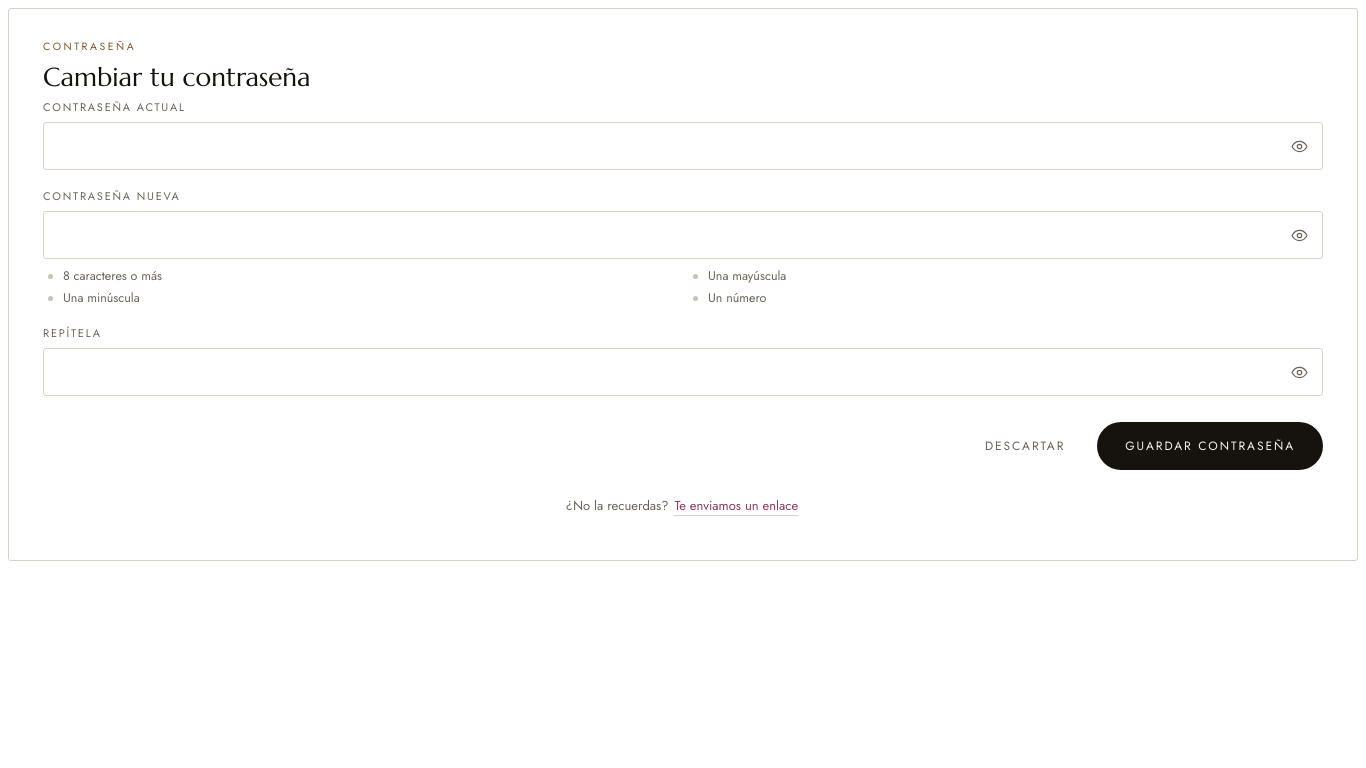
it: SeccionContrasena · con contraseña › la nueva igual a la actual no se envía
Type "Marlene2026" into the password field with test id "campo-actual". click: (683, 146)
box: left=43, top=122, right=1323, bottom=170
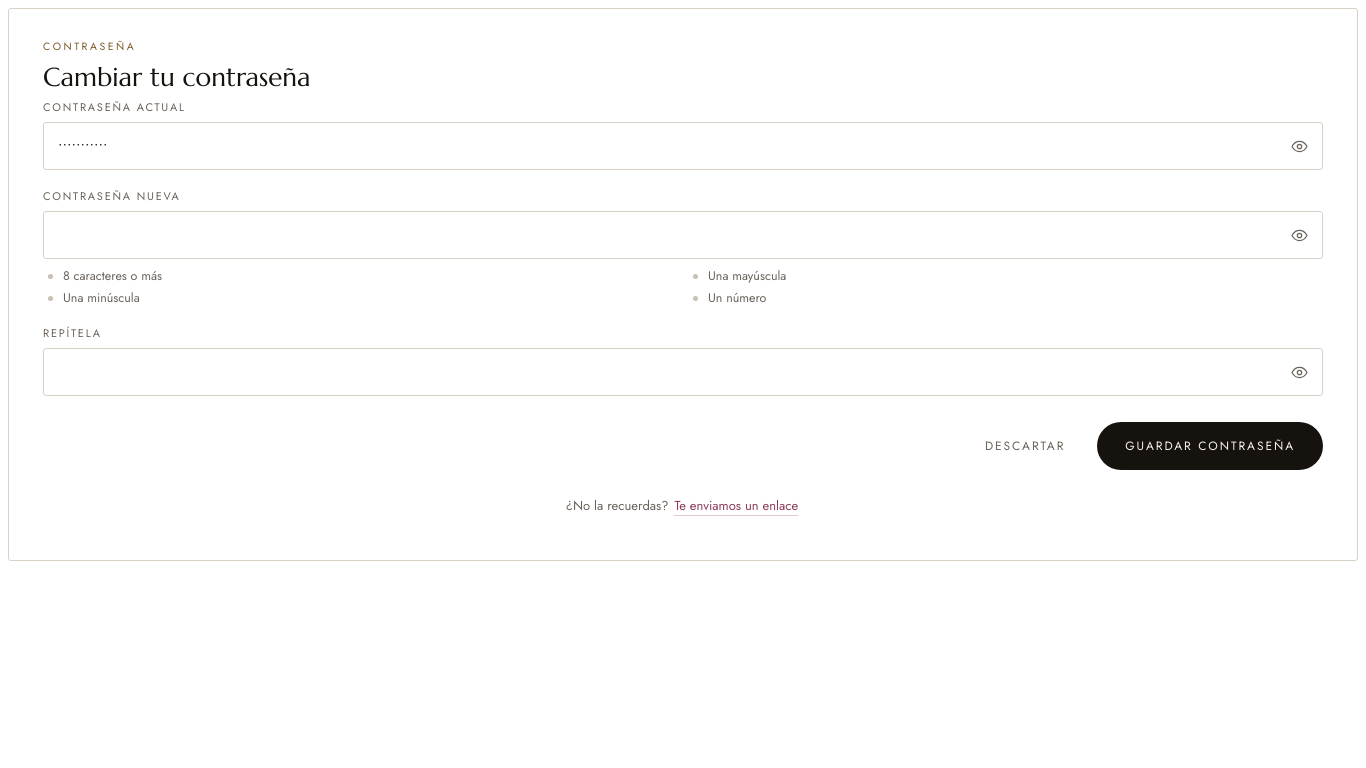
Type "Marlene2026" into the password field with test id "campo-nueva". click: (683, 235)
box: left=43, top=211, right=1323, bottom=259
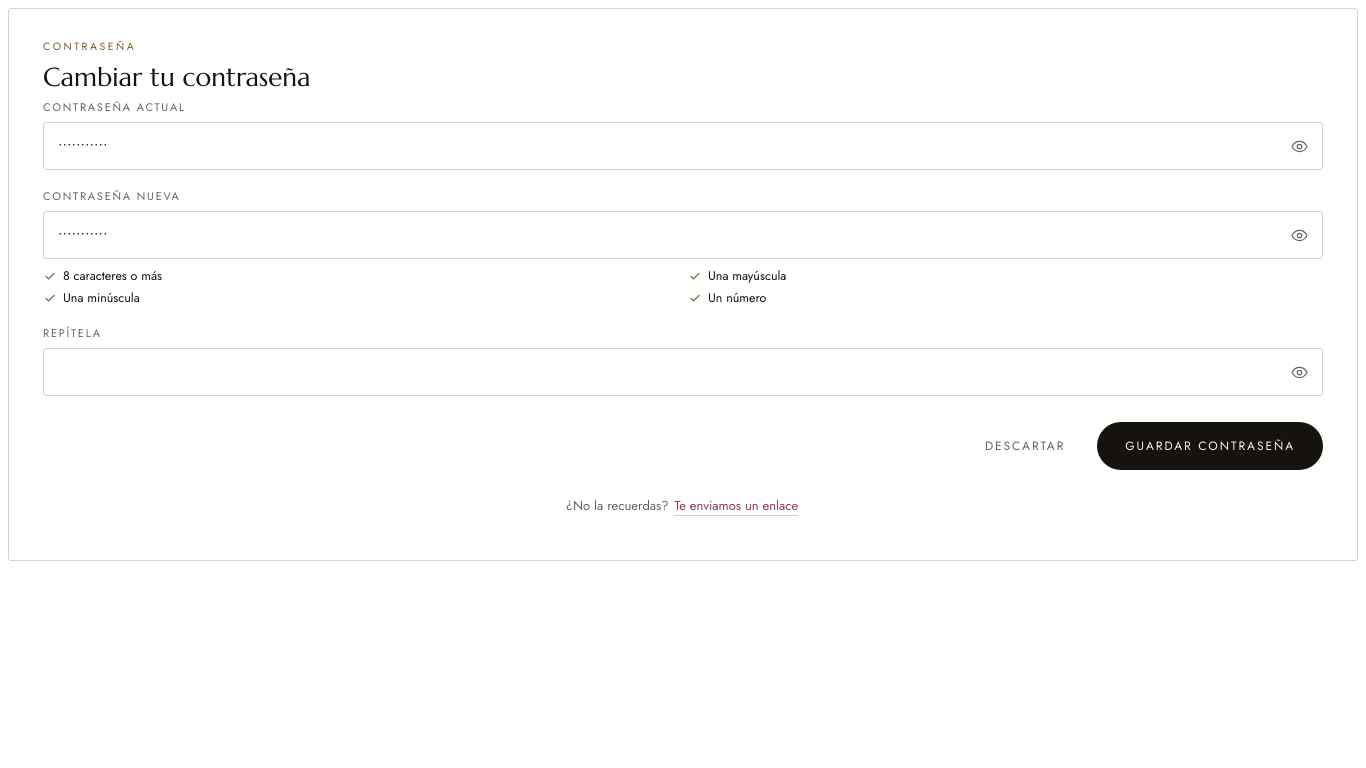
Type "Marlene2026" into the password field with test id "campo-repetida". click: (683, 372)
box: left=43, top=348, right=1323, bottom=396
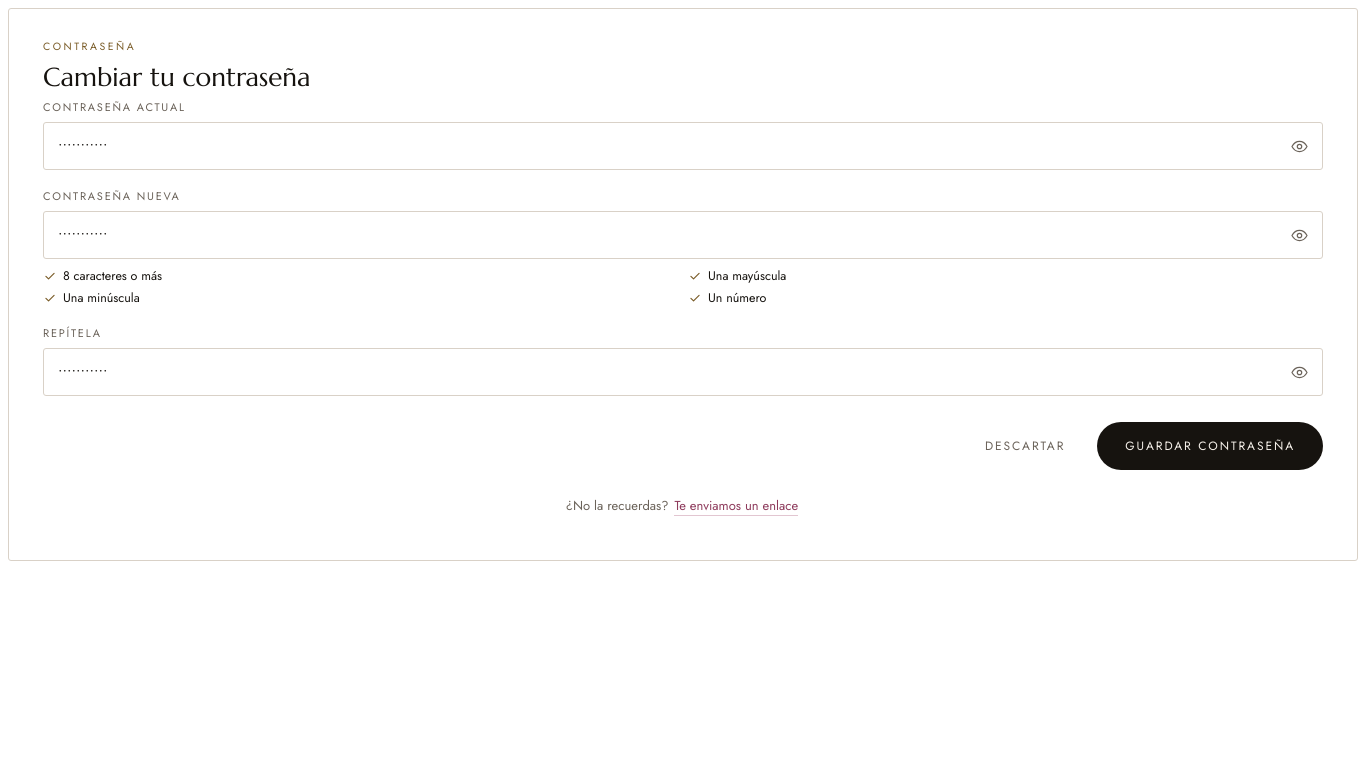
Submit the form, box left=43, top=99, right=1323, bottom=470
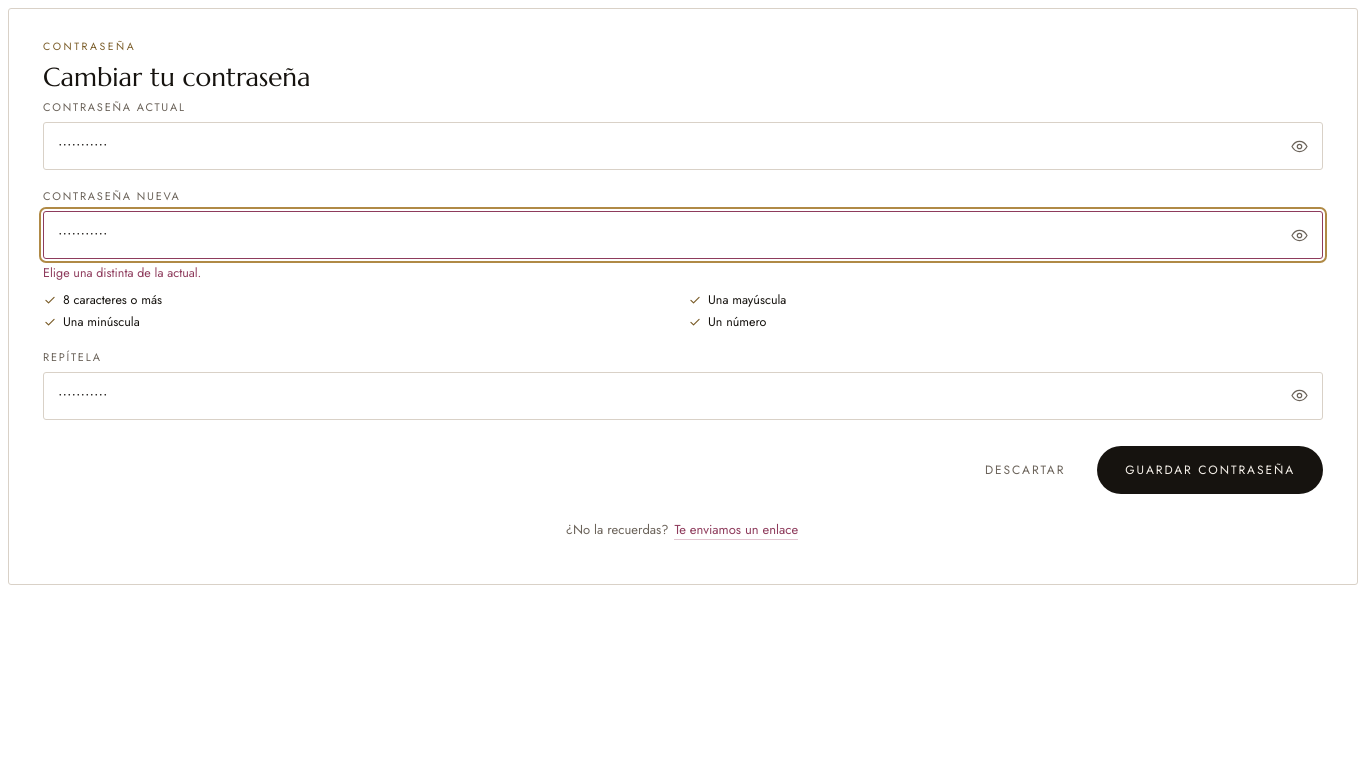
Expected: the text with test id "campo-nueva-error" reads "Elige una distinta de la actual.", left=43, top=264, right=201, bottom=282
